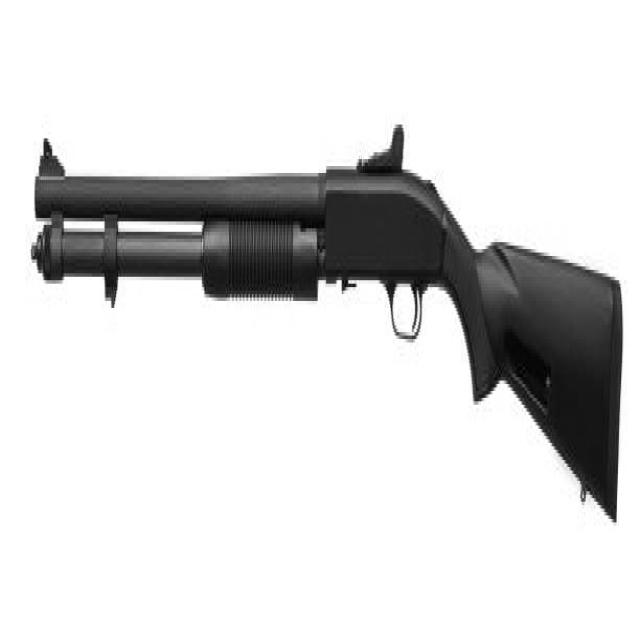rifle: (27, 117, 629, 536)
